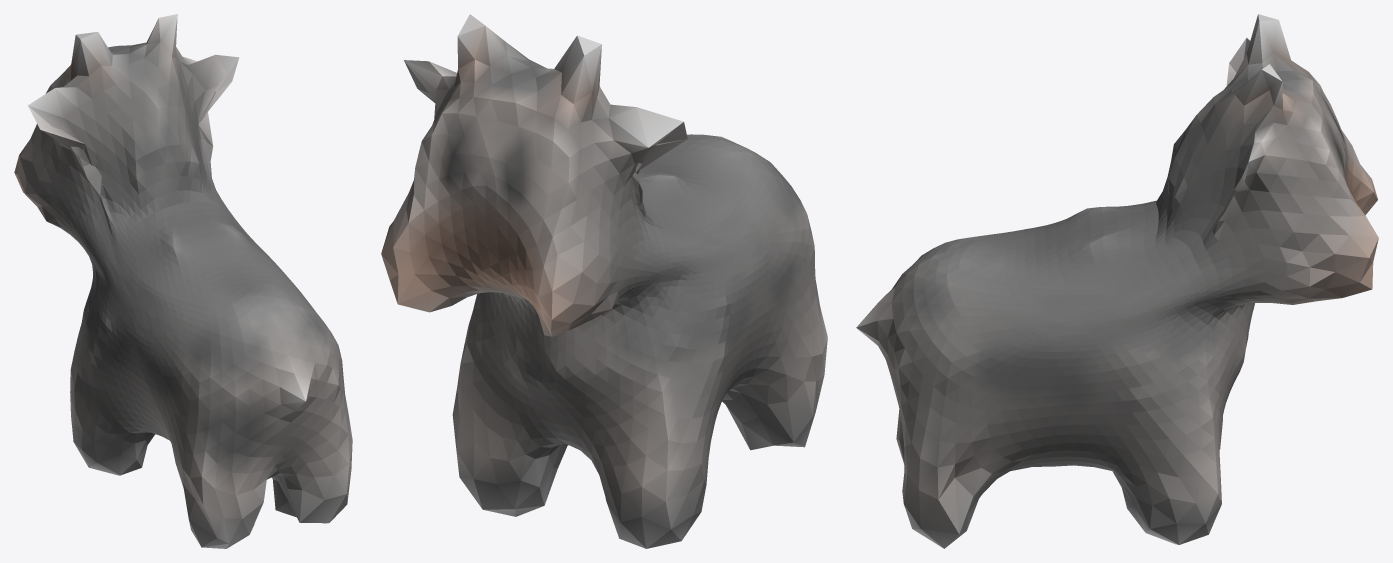
File: colored_mesh_iter_0999.obj
3 views of the same model, side by side, from view 1: azimuth 30°, elevation 25°; view 2: azimuth 150°, elevation 25°; view 3: azimuth 270°, elevation 25° (orthographic). The views are drawn at different scales.
Size of the model in its own units: 1.07 by 2 by 1.98.
